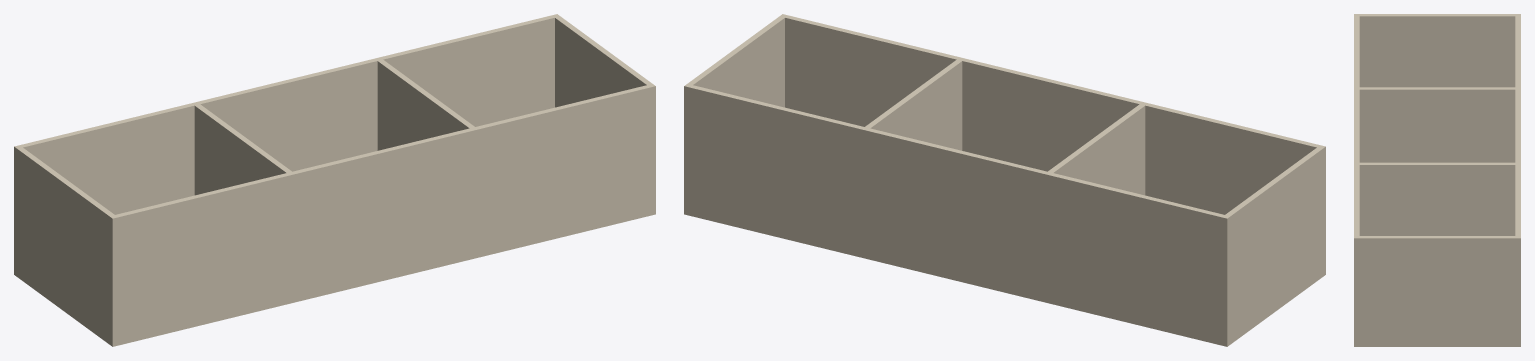
Rendered from cabinetTest1.gltf.
3 renders of one model, left to right at view 1: azimuth 30°, elevation 25°; view 2: azimuth 150°, elevation 25°; view 3: azimuth 270°, elevation 25°, orthographic. The views are drawn at different scales.
Visible parts, largest first — view 1: Solid1, Solid1:1, Solid1:3, Solid1:5, Solid1:4, Solid1:2; view 2: Solid1:1, Solid1, Solid1:3, Solid1:5, Solid1:4, Solid1:2; view 3: Solid1:2, Solid1:5, Solid1:3, Solid1:4, Solid1, Solid1:1.
Boxes of the visible parts, left/top/right/bottom form: Solid1: left=109, top=84, right=655, bottom=346; Solid1:1: left=14, top=14, right=559, bottom=276; Solid1:3: left=17, top=147, right=114, bottom=343; Solid1:5: left=194, top=104, right=291, bottom=195; Solid1:4: left=377, top=59, right=474, bottom=150; Solid1:2: left=555, top=16, right=652, bottom=107; Solid1:1: left=684, top=84, right=1230, bottom=346; Solid1: left=780, top=14, right=1325, bottom=276; Solid1:3: left=1225, top=147, right=1322, bottom=343; Solid1:5: left=1048, top=104, right=1145, bottom=195; Solid1:4: left=865, top=59, right=962, bottom=150; Solid1:2: left=687, top=16, right=784, bottom=107; Solid1:2: left=1359, top=236, right=1515, bottom=346; Solid1:5: left=1359, top=87, right=1515, bottom=162; Solid1:3: left=1359, top=14, right=1515, bottom=87; Solid1:4: left=1359, top=162, right=1515, bottom=235; Solid1: left=1354, top=14, right=1359, bottom=346; Solid1:1: left=1515, top=14, right=1520, bottom=346.
Bounding box in the file's own units: 1750 × 395 × 550.
